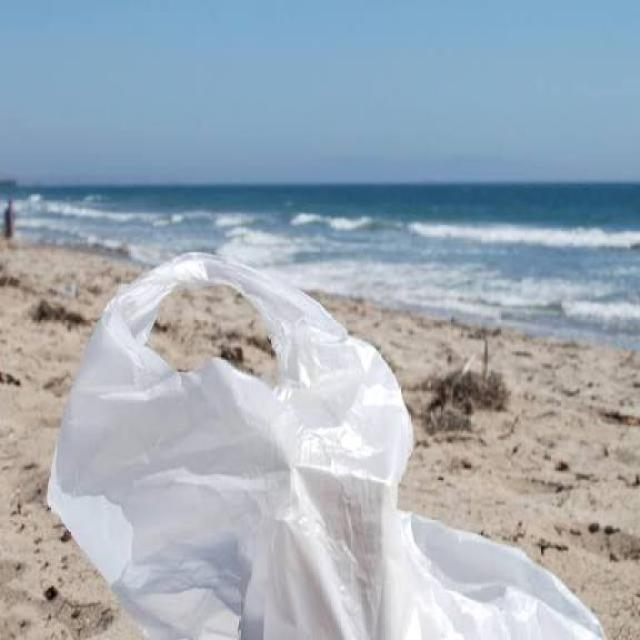bag: (37, 232, 596, 640)
